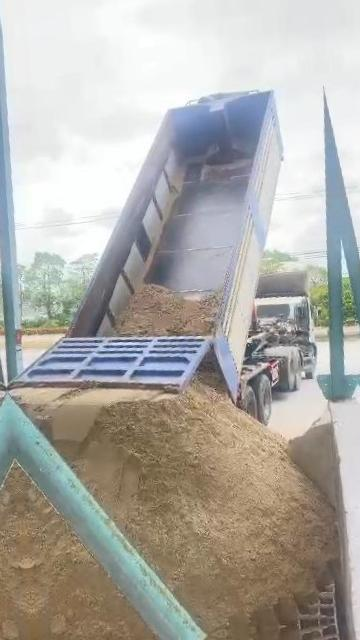sand: (59, 351, 338, 635), (15, 467, 154, 640), (14, 389, 173, 448), (115, 286, 220, 335), (289, 411, 336, 508)
